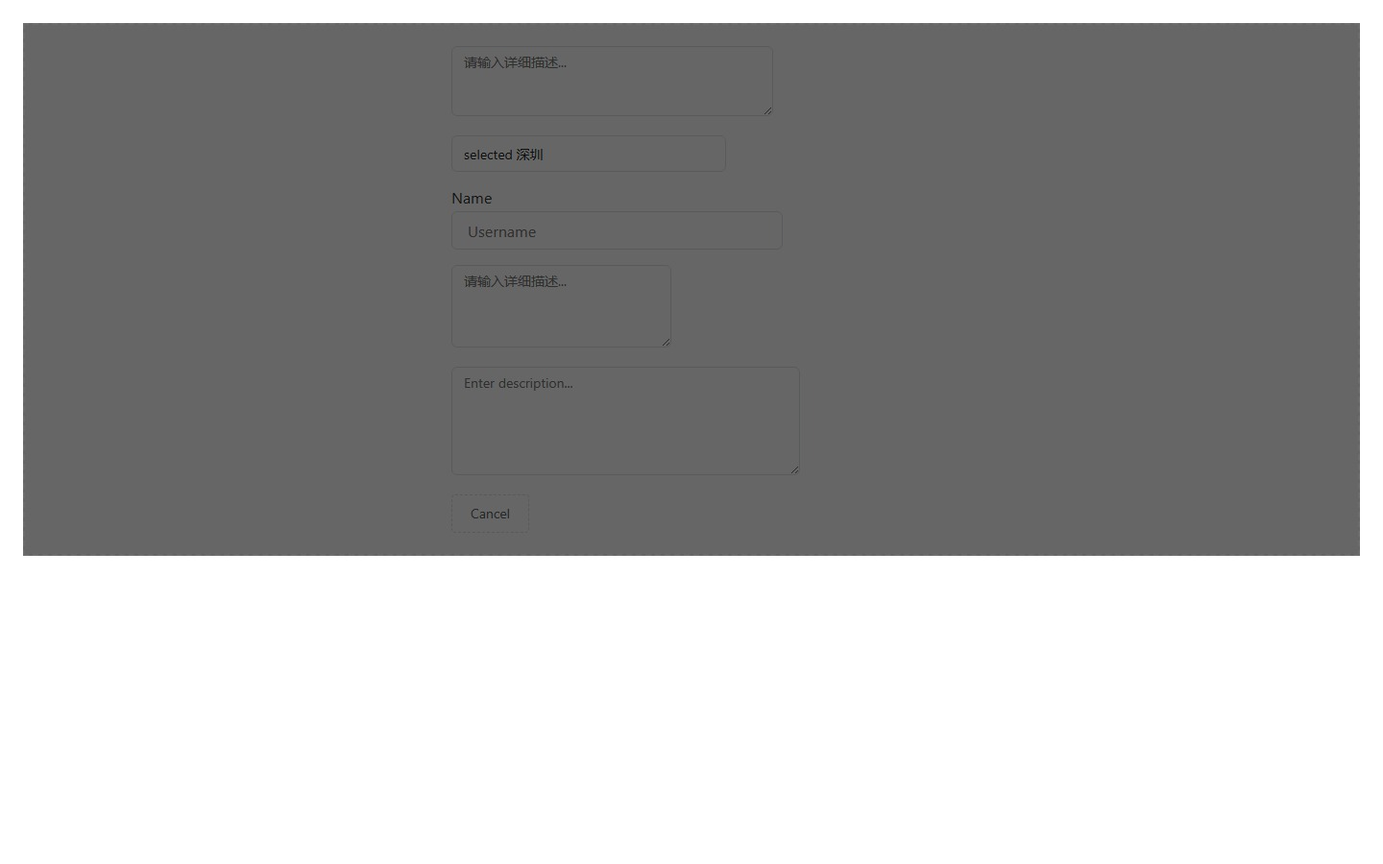button: (451, 494, 529, 533)
input: (451, 211, 783, 250)
modal: (23, 23, 1360, 556)
select: (451, 135, 726, 172)
textarea: (451, 367, 800, 475), (451, 46, 773, 116), (451, 265, 671, 348)
